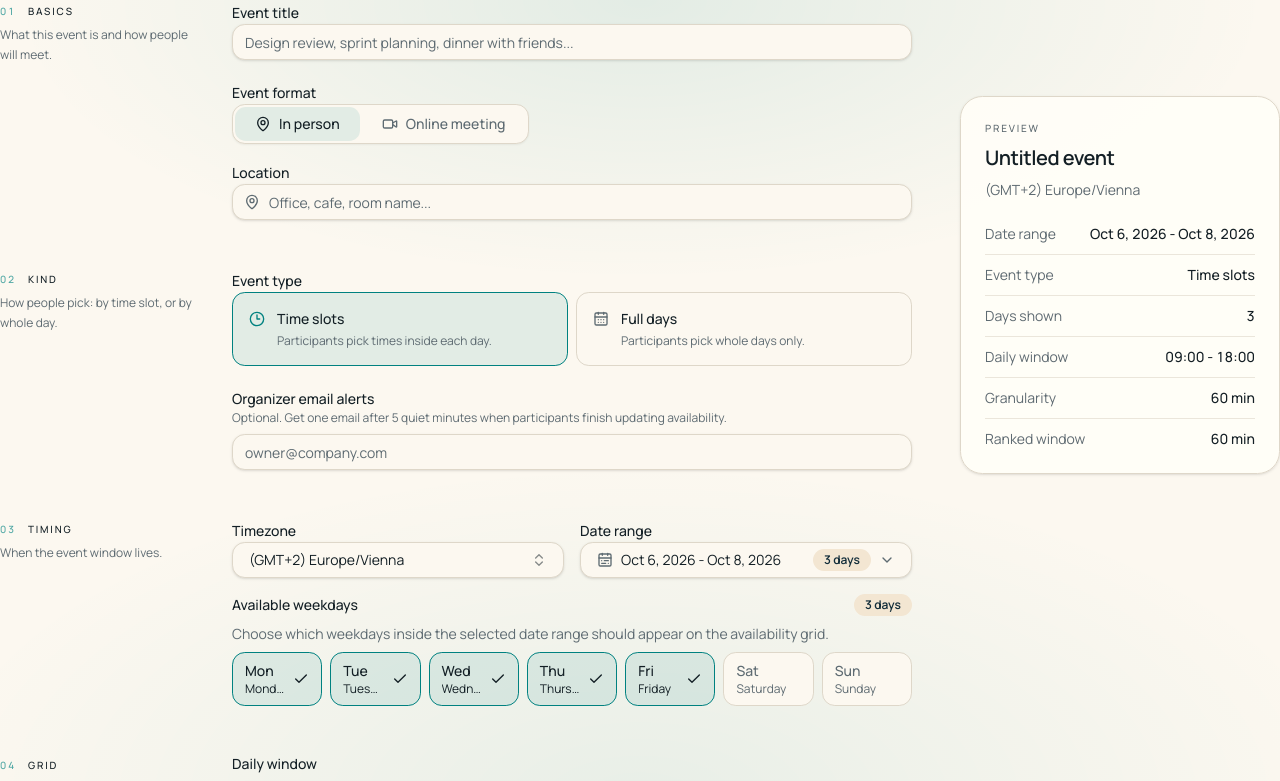
Test: CreateEventForm › filters timezone options by search text and keeps the selected value
Click the dropdown named "Timezone": (398, 560) [232,542,564,578]
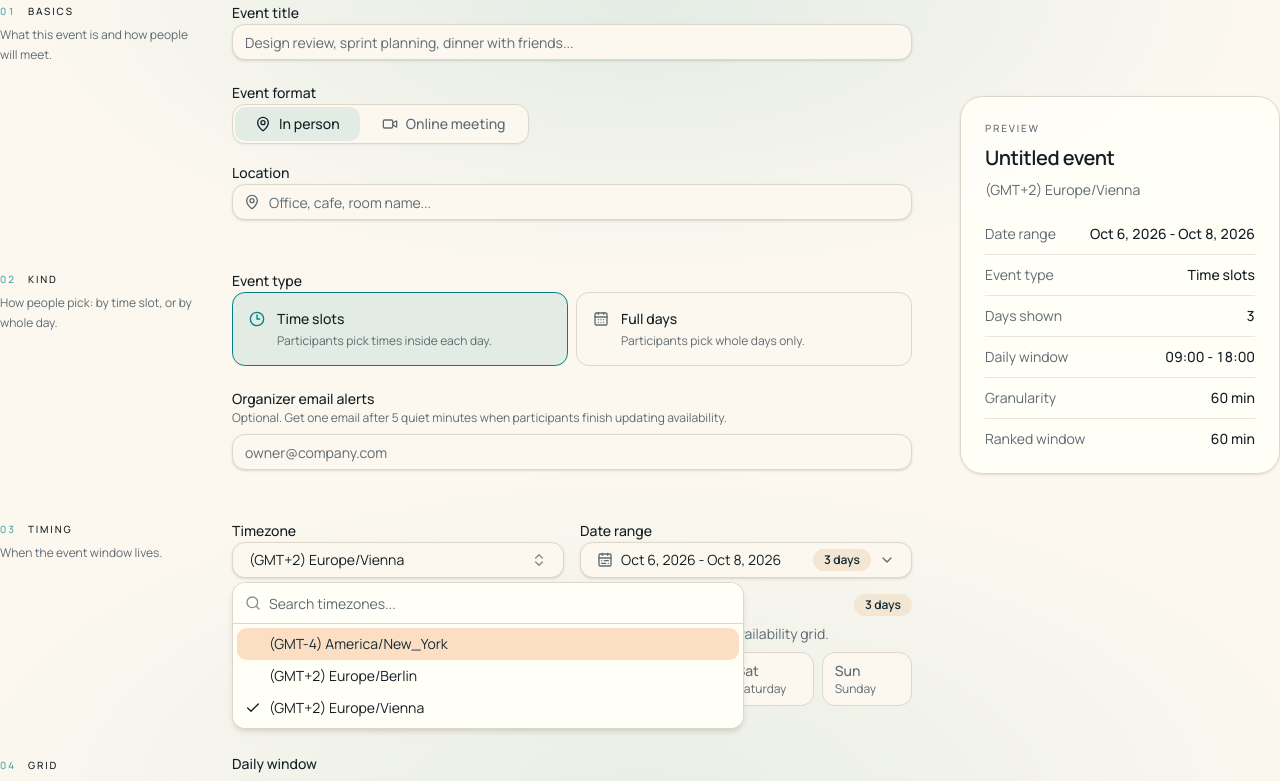
In the dropdown with placeholder "Search timezones...": (500, 603) [269,583,731,623], type "berlin"
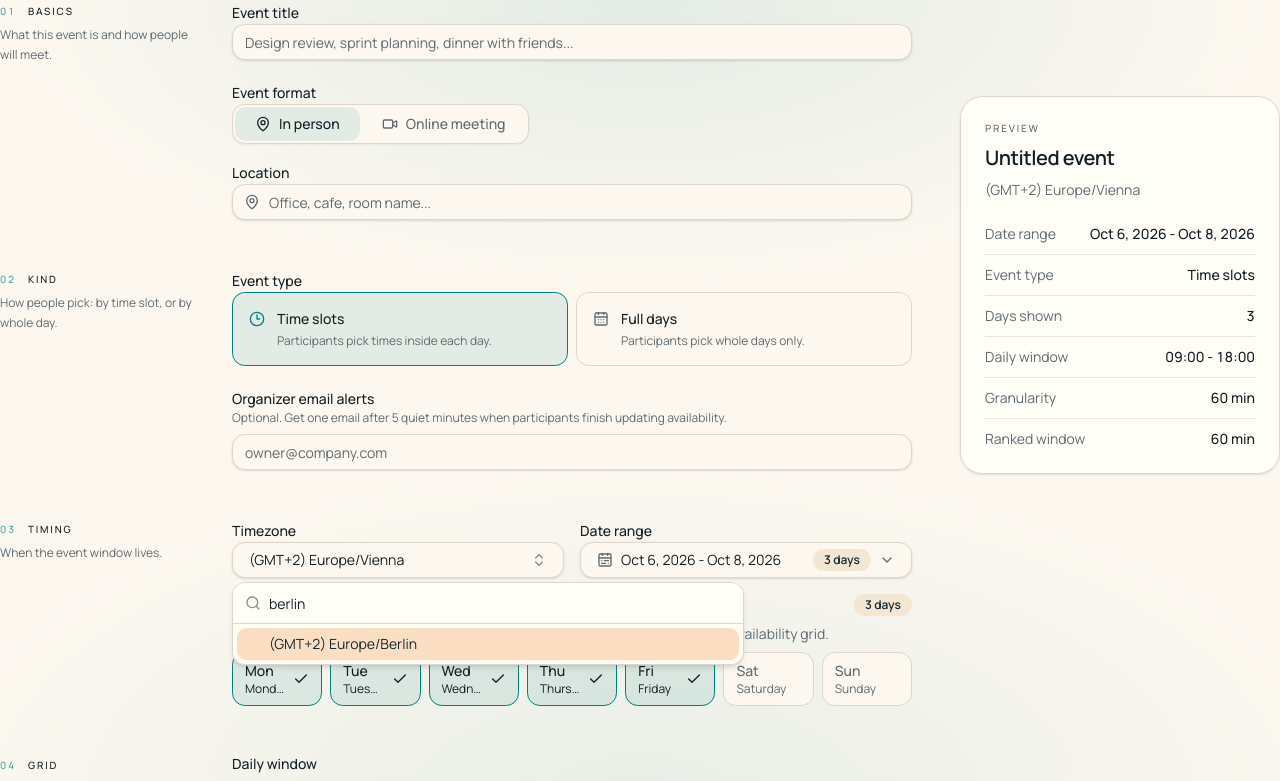
Now the option "(GMT+2) Europe/Berlin" is shown
Click the option "(GMT+2) Europe/Berlin": (343, 644) [237,628,739,660]
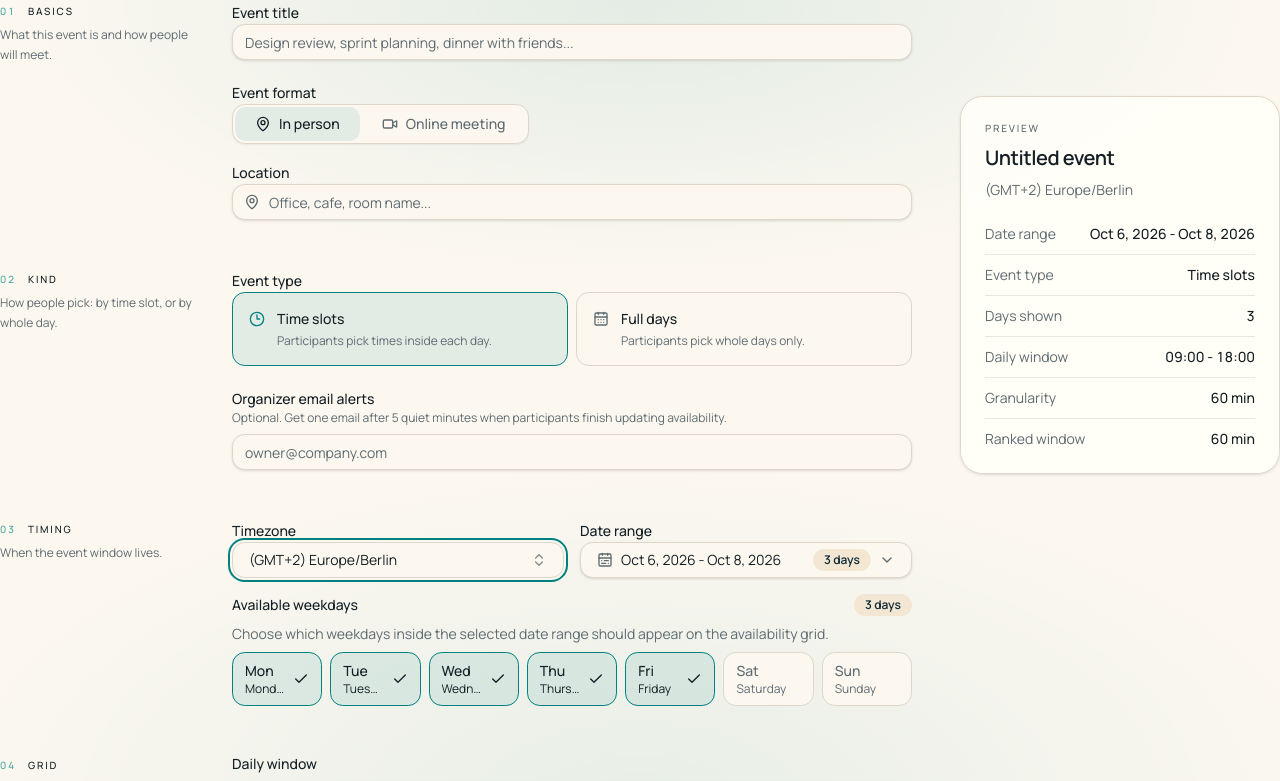
Now the dropdown named "Timezone" shows "Europe/Berlin", box [232,542,564,578]
